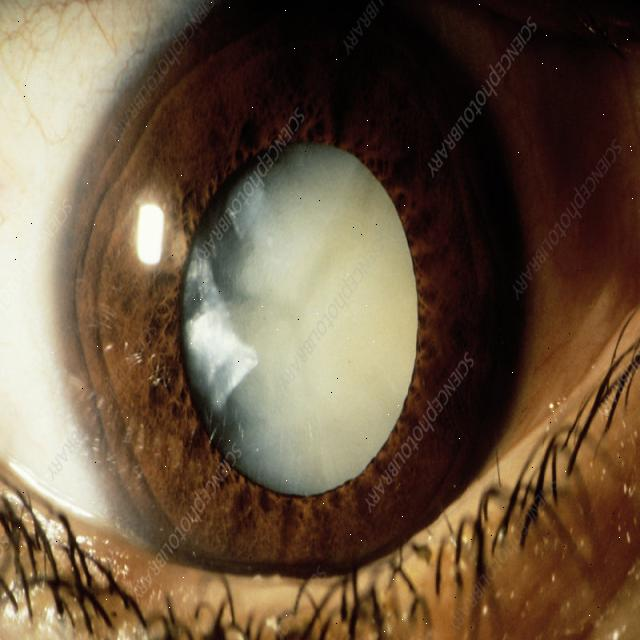Cataract: (60, 0, 539, 602)
